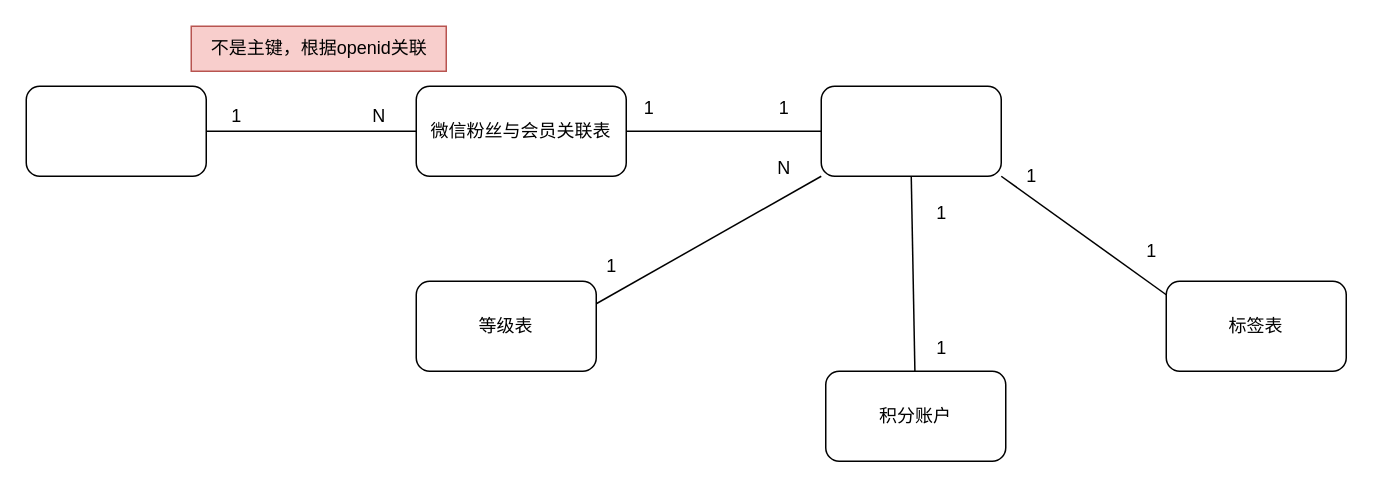
Image size: 1373x488. Some labels were removed from this diagram. Each missing label, with the centre of its shape:
"会员表" belongs at pixel 910 130.
"微信粉丝表" belongs at pixel 115 130.
